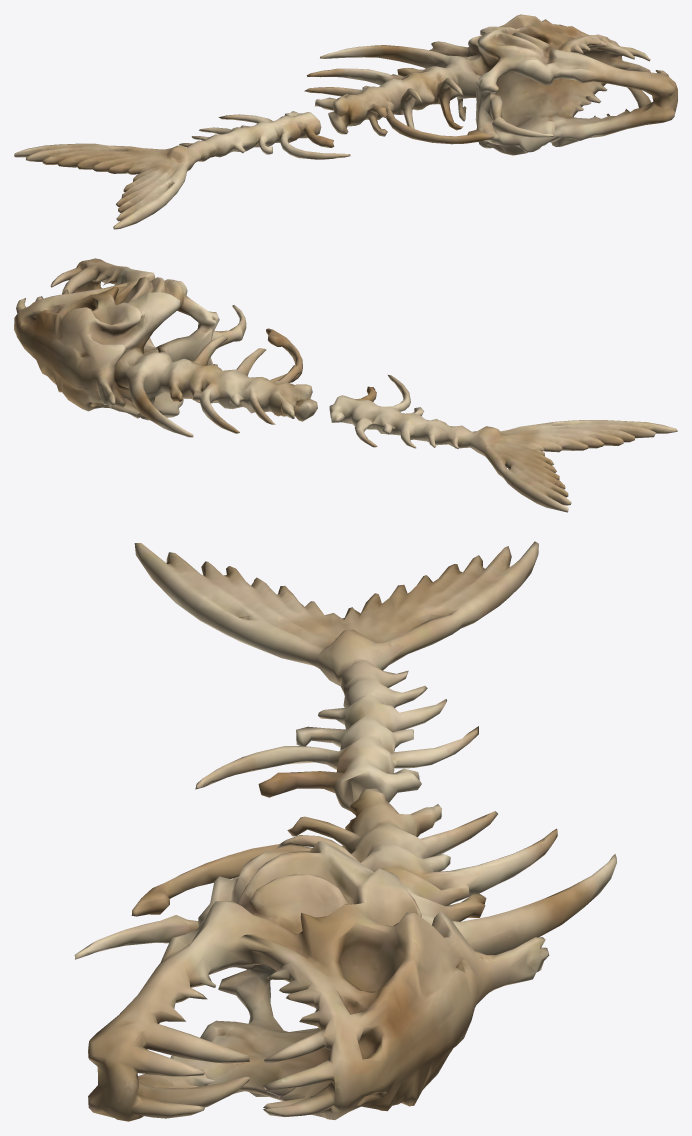
The model's file is bone_broken_xl.glb.
3 renders of one model, top to bottom at view 1: azimuth 30°, elevation 25°; view 2: azimuth 150°, elevation 25°; view 3: azimuth 270°, elevation 25°, orthographic. The views are drawn at different scales.
Visible parts, largest first — view 1: bone_broken_xl; view 2: bone_broken_xl; view 3: bone_broken_xl.
Boxes of the visible parts, x1,y1,x2,y2 form: bone_broken_xl: [14, 14, 677, 229]; bone_broken_xl: [14, 258, 677, 512]; bone_broken_xl: [74, 541, 616, 1121].
Bounding box in the file's own units: 0.3 × 0.0587 × 0.1236.
Materials: 1 (1 with a texture image).
